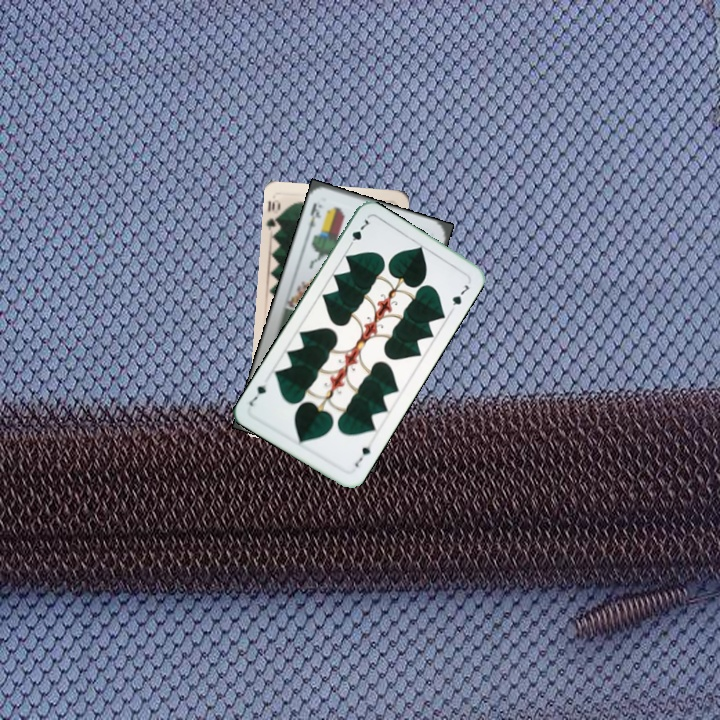EK: (302, 199, 325, 237)
G10: (263, 196, 284, 235)
G7: (344, 215, 373, 251), (350, 442, 373, 470)
